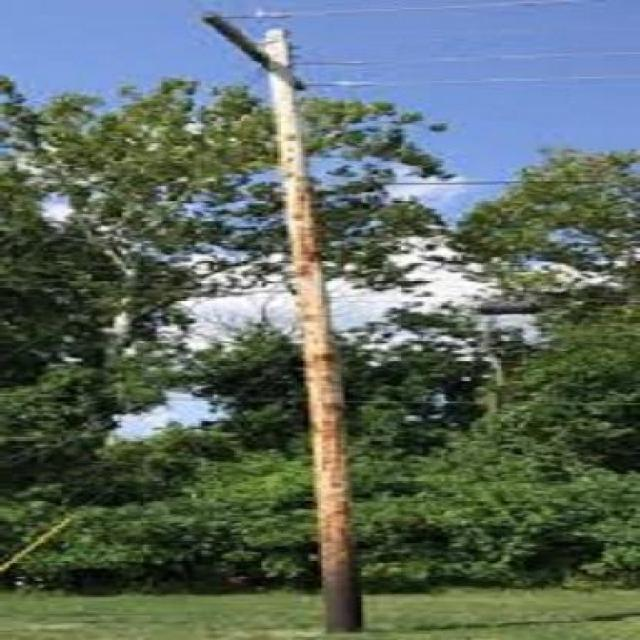pole: (210, 17, 372, 625)
